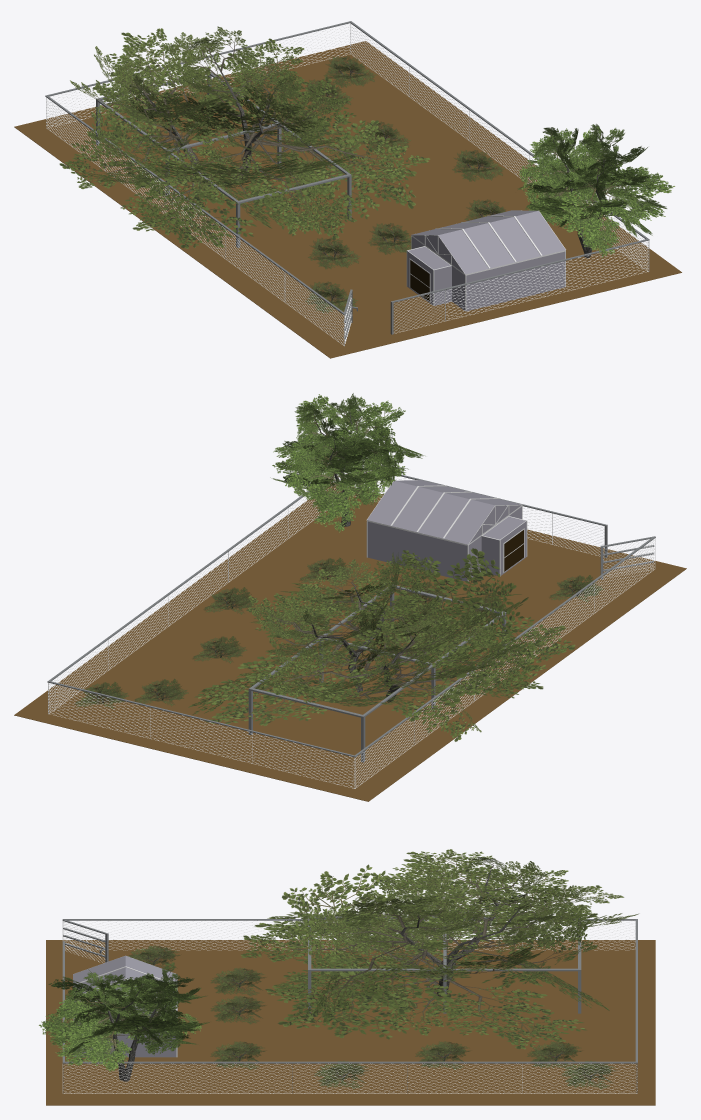
Rendered from batasanUrban.glb.
3 renders of one model, top to bottom at view 1: azimuth 30°, elevation 25°; view 2: azimuth 150°, elevation 25°; view 3: azimuth 270°, elevation 25°, orthographic. The views are drawn at different scales.
Parts seen in each view (by area): view 1: BezierCurve.009; view 2: BezierCurve.009; view 3: BezierCurve.009.
Boxes of the visible parts, x1,y1,x2,y2 form: BezierCurve.009: (14, 21, 681, 358); BezierCurve.009: (14, 393, 686, 801); BezierCurve.009: (39, 849, 655, 1105).
Bounding box in the file's own units: 6 × 1.55 × 8.1.
Materials: 60 (6 with a texture image).
